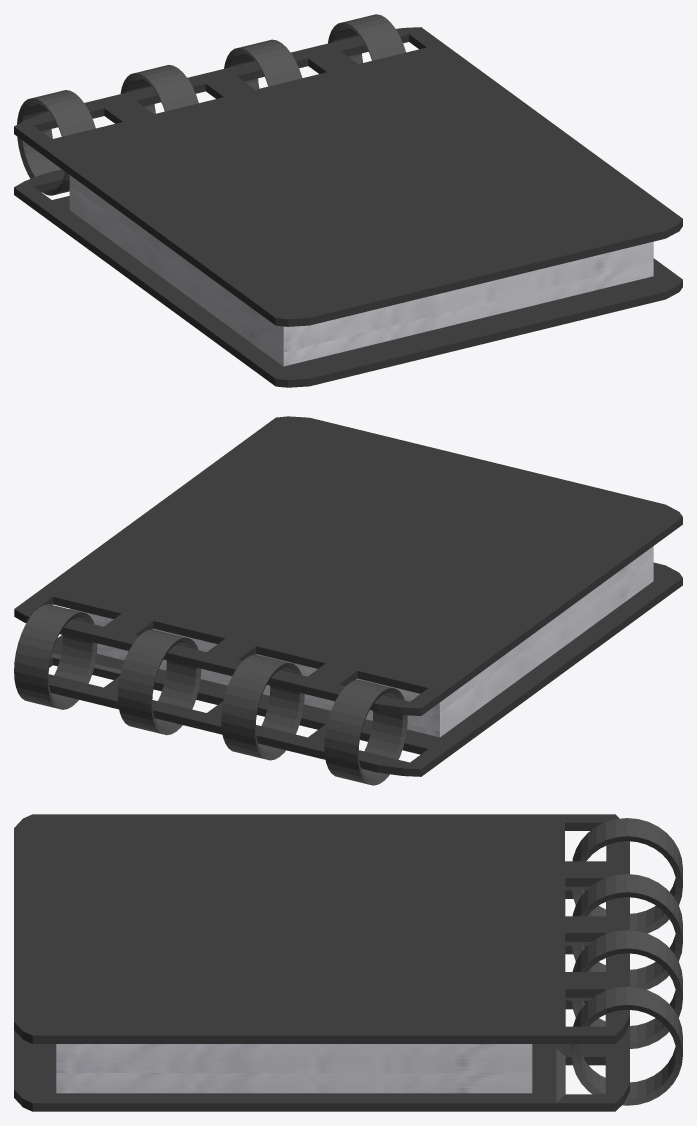
The model's file is cuaderno1.fbx.
3 views of the same model, one above another, from view 1: azimuth 30°, elevation 25°; view 2: azimuth 150°, elevation 25°; view 3: azimuth 270°, elevation 25° (orthographic). The views are drawn at different scales.
Parts seen in each view (by area): view 1: notebook:Mesh; view 2: notebook:Mesh; view 3: notebook:Mesh.
Boxes of the visible parts, left/top/right/bottom form: notebook:Mesh: left=14, top=14, right=682, bottom=387; notebook:Mesh: left=14, top=416, right=682, bottom=785; notebook:Mesh: left=14, top=814, right=682, bottom=1111.
Size of the model in its own units: 4.63 by 0.9839 by 5.91.
3 materials, 1 textured.
